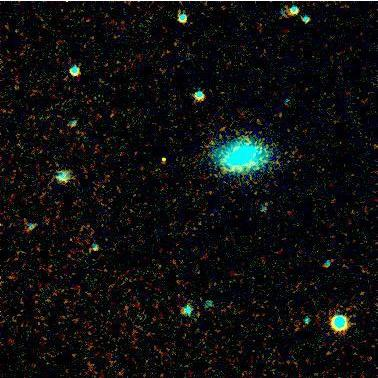star: (149, 145, 179, 175)
